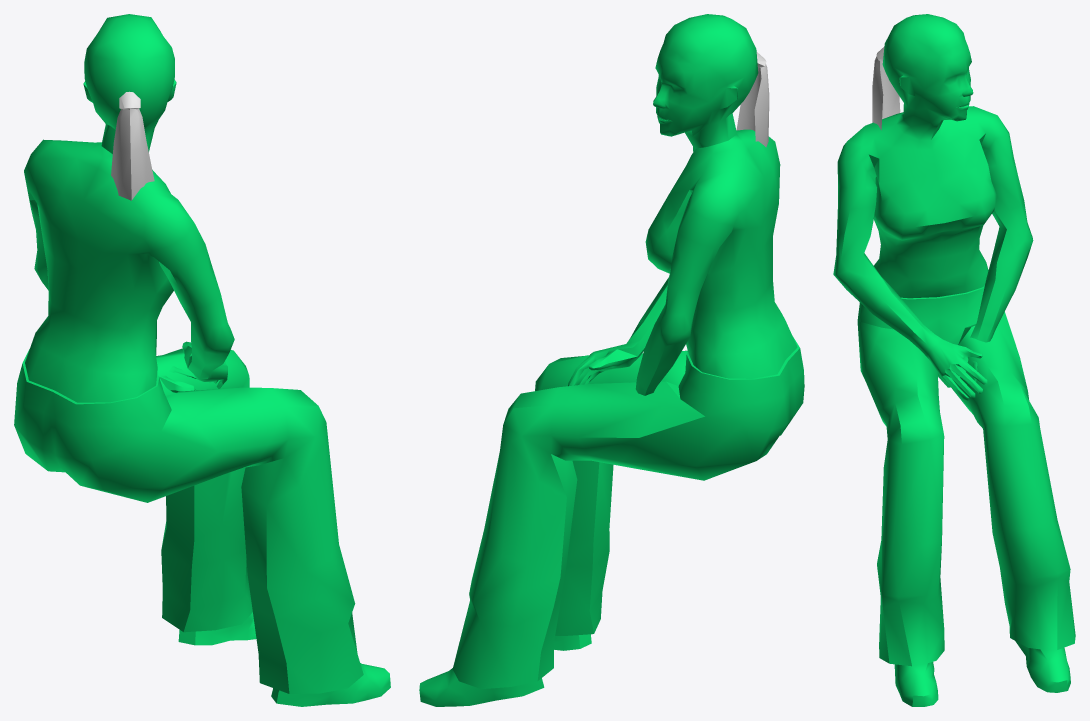
File: SM_Woman_Pants_Sit02.glb
The picture shows the model from 3 angles, left to right: view 1: azimuth 30°, elevation 25°; view 2: azimuth 150°, elevation 25°; view 3: azimuth 270°, elevation 25°; orthographic projection. The views are drawn at different scales.
Parts seen in each view (by area): view 1: SM_Woman_Pants_Sit02; view 2: SM_Woman_Pants_Sit02; view 3: SM_Woman_Pants_Sit02.
Boxes of the visible parts, x1,y1,x2,y2 form: SM_Woman_Pants_Sit02: (14,14,390,706); SM_Woman_Pants_Sit02: (419,14,804,706); SM_Woman_Pants_Sit02: (833,14,1075,706).
Bounding box in the file's own units: 0.7121 × 1.41 × 0.5271.
